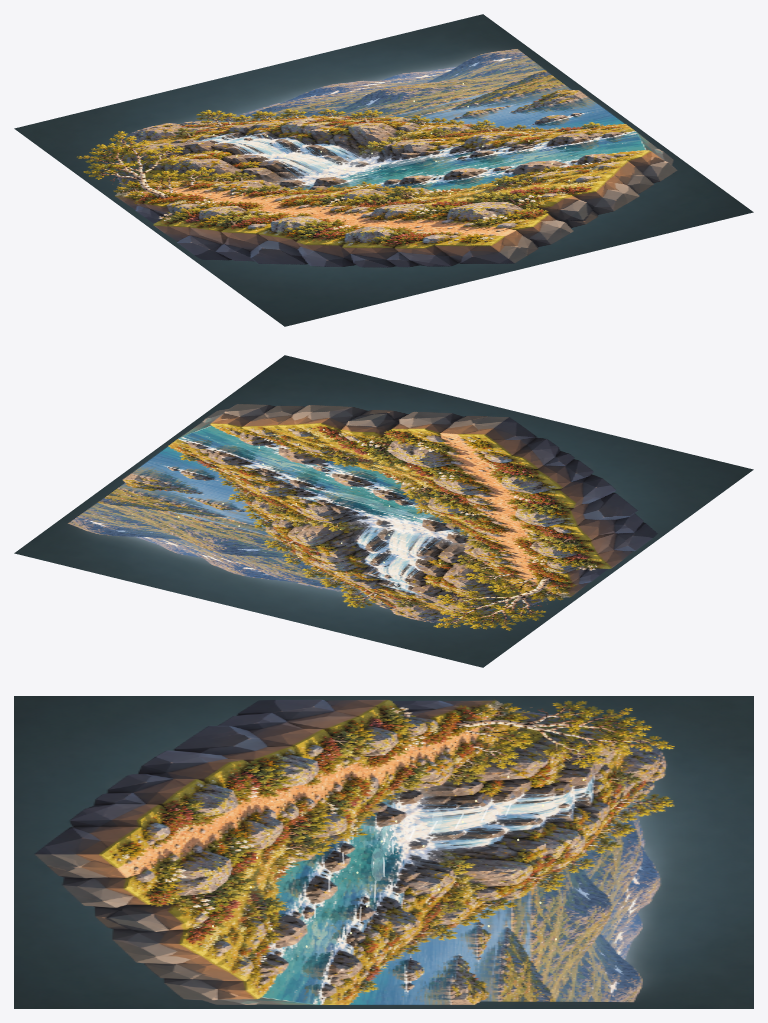
File: poi-t1-01-lavvu-diorama-v1.glb
3 views of the same model, one above another, from view 1: azimuth 30°, elevation 25°; view 2: azimuth 150°, elevation 25°; view 3: azimuth 270°, elevation 25° (orthographic). The views are drawn at different scales.
Parts seen in each view (by area): view 1: Approved illustration backplate; view 2: Approved illustration backplate; view 3: Approved illustration backplate.
Boxes of the visible parts, box(x1,y1,x2,y2) form: Approved illustration backplate: box(14, 14, 753, 326); Approved illustration backplate: box(14, 355, 753, 667); Approved illustration backplate: box(14, 696, 753, 1008).
Size of the model in its own units: 10 by 0.138 by 10.
4 materials, 1 textured.
